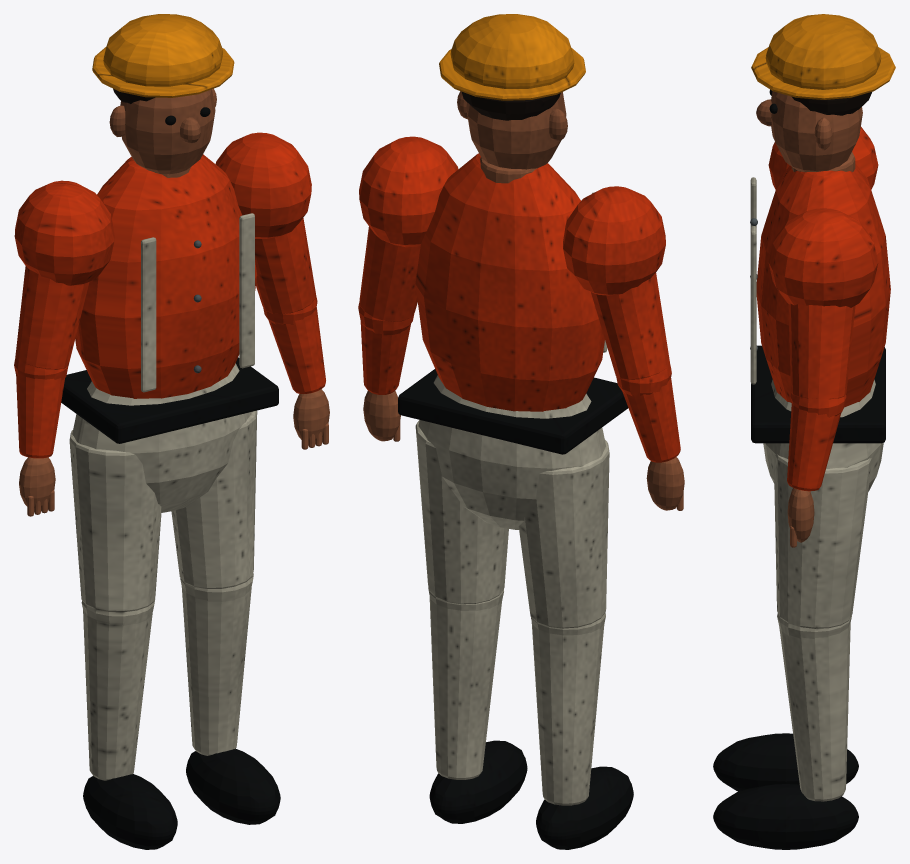
Rendered from PROP-D9542803DE23_lod0.glb.
3 views of the same model, side by side, from view 1: azimuth 30°, elevation 25°; view 2: azimuth 150°, elevation 25°; view 3: azimuth 270°, elevation 25° (orthographic). The views are drawn at different scales.
Parts seen in each view (by area): view 1: torso.034, thigh.033, calf.033, shoulder.034, shoe.033, upper_arm.034, pelvis.033, belt.033, hardhat.010, forearm.034, head.033, vest_reflective_tape.010 (+5 smaller); view 2: torso.034, thigh.033, calf.033, shoulder.034, pelvis.033, upper_arm.034, shoe.033, belt.033, hardhat.010, forearm.034, head.033, hand.033 (+6 smaller); view 3: torso.034, thigh.033, shoe.033, shoulder.034, calf.033, hardhat.010, upper_arm.034, belt.033, head.033, forearm.034, pelvis.033, hardhat_brim.010 (+6 smaller).
Part boxes in pixels (x1=…): torso.034: x1=75, y1=154, x2=257, y2=398; thigh.033: x1=69, y1=410, x2=257, y2=612; calf.033: x1=83, y1=586, x2=251, y2=780; shoulder.034: x1=14, y1=132, x2=311, y2=285; shoe.033: x1=83, y1=749, x2=280, y2=849; upper_arm.034: x1=15, y1=218, x2=315, y2=369; pelvis.033: x1=72, y1=363, x2=252, y2=512; belt.033: x1=61, y1=357, x2=278, y2=443; hardhat.010: x1=103, y1=14, x2=222, y2=86; forearm.034: x1=16, y1=307, x2=325, y2=458; head.033: x1=120, y1=89, x2=215, y2=174; vest_reflective_tape.010: x1=141, y1=213, x2=254, y2=392; torso.034: x1=415, y1=153, x2=604, y2=411; thigh.033: x1=415, y1=420, x2=609, y2=628; calf.033: x1=429, y1=597, x2=604, y2=805; shoulder.034: x1=359, y1=136, x2=665, y2=295; pelvis.033: x1=418, y1=375, x2=605, y2=529; upper_arm.034: x1=359, y1=226, x2=669, y2=379; shoe.033: x1=429, y1=740, x2=633, y2=849; belt.033: x1=398, y1=369, x2=628, y2=454; hardhat.010: x1=450, y1=14, x2=574, y2=88; forearm.034: x1=360, y1=322, x2=680, y2=462; head.033: x1=466, y1=92, x2=566, y2=169; hand.033: x1=363, y1=391, x2=684, y2=510; torso.034: x1=756, y1=164, x2=890, y2=407; thigh.033: x1=774, y1=454, x2=871, y2=628; shoe.033: x1=713, y1=733, x2=858, y2=849; shoulder.034: x1=768, y1=127, x2=878, y2=307; calf.033: x1=779, y1=623, x2=850, y2=801; hardhat.010: x1=765, y1=14, x2=881, y2=89; upper_arm.034: x1=788, y1=304, x2=855, y2=399; belt.033: x1=751, y1=345, x2=885, y2=443; head.033: x1=771, y1=91, x2=862, y2=172; forearm.034: x1=787, y1=403, x2=841, y2=491; pelvis.033: x1=763, y1=379, x2=883, y2=491; hardhat_brim.010: x1=751, y1=47, x2=895, y2=99.
Size of the model in its own units: 0.7175 by 1.77 by 0.3661.
7 materials, 7 textured.
